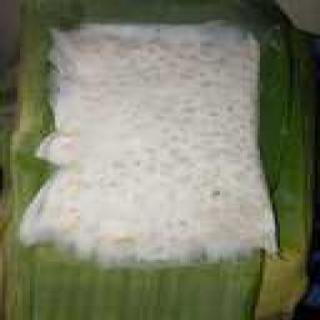Tempe: (25, 19, 282, 266)
